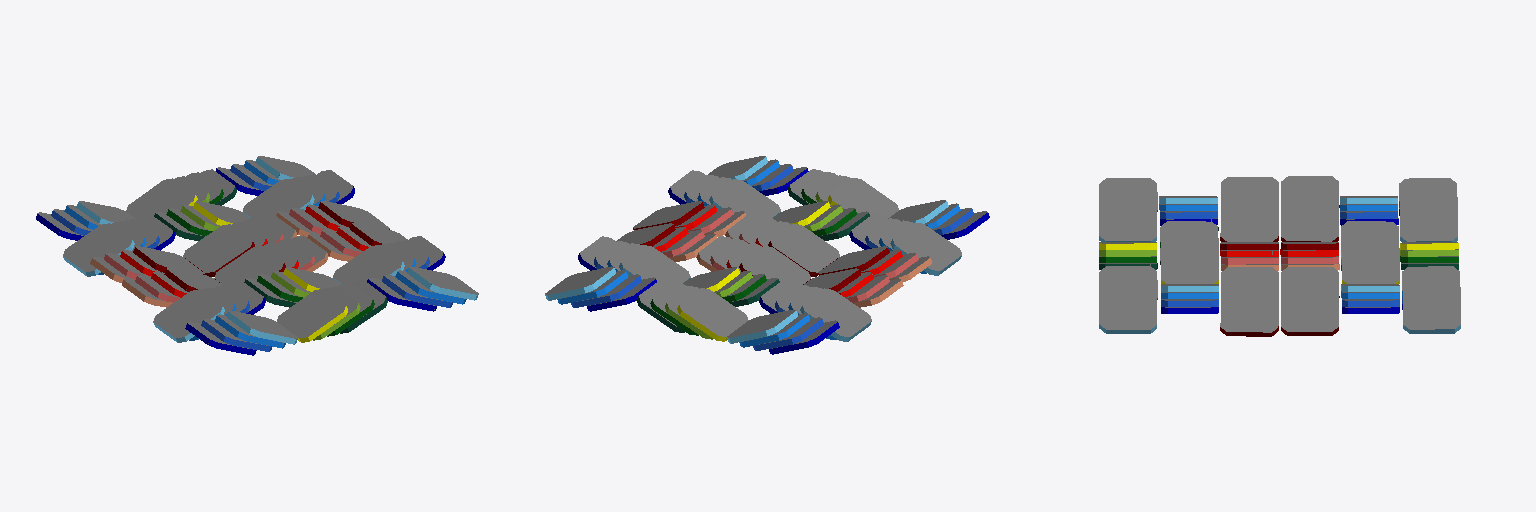
Rendered from brunnen.obj.
3 views of the same model, side by side, from view 1: azimuth 30°, elevation 25°; view 2: azimuth 150°, elevation 25°; view 3: azimuth 270°, elevation 25° (orthographic).
Visible parts, largest first — view 1: row1:pCube8 row1:polySurface1, row4:group row4:pCube5 row4:polySurface1 group, row2:group row2:pCube11 row2:polySurface3 row2:polySurface1, row5:group row5:pCube11 row5:polySurface3 row5:polySurface1 grou, row2:pCube3 row2:polySurface2 row2:polySurface1, row5:pCube3 row5:polySurface2 row5:polySurface1 group1, row6:pCube8 row6:polySurface1 group2, row3:group row3:pCube5 row3:polySurface1, row1:group row1:pCube11 row1:polySurface3 row1:polySurface1, row1:pCube3 row1:polySurface2 row1:polySurface1, row4:pCube1 row4:polySurface1 group, row4:group1 row4:pCube9 row4:polySurface1 group (+20 smaller); view 2: row6:pCube8 row6:polySurface1 group2, row3:group row3:pCube5 row3:polySurface1, row2:group row2:pCube11 row2:polySurface3 row2:polySurface1, row5:group row5:pCube11 row5:polySurface3 row5:polySurface1 grou, row1:pCube8 row1:polySurface1, row2:pCube3 row2:polySurface2 row2:polySurface1, row5:pCube3 row5:polySurface2 row5:polySurface1 group1, row4:group row4:pCube5 row4:polySurface1 group, row6:group row6:pCube11 row6:polySurface3 row6:polySurface1 grou, row6:pCube3 row6:polySurface2 row6:polySurface1 group2, row3:pCube1 row3:polySurface1, row3:group1 row3:pCube9 row3:polySurface1 (+20 smaller); view 3: row6:group row6:pCube11 row6:polySurface3 row6:polySurface1 grou, row1:group row1:pCube11 row1:polySurface3 row1:polySurface1, row3:group1 row3:pCube9 row3:polySurface1, row4:group1 row4:pCube9 row4:polySurface1 group, row4:pCube1 row4:polySurface1 group, row6:pCube3 row6:polySurface2 row6:polySurface1 group2, row1:pCube3 row1:polySurface2 row1:polySurface1, row3:pCube1 row3:polySurface1, row5:pCube8 row5:polySurface1 group1, row2:pCube8 row2:polySurface1.
Part boxes in pixels (x1,y1,x2,y2): row1:pCube8 row1:polySurface1: (277,289,347,342); row4:group row4:pCube5 row4:polySurface1 group: (183,224,254,276); row2:group row2:pCube11 row2:polySurface3 row2:polySurface1: (153,289,224,342); row5:group row5:pCube11 row5:polySurface3 row5:polySurface1 grou: (63,223,134,276); row2:pCube3 row2:polySurface2 row2:polySurface1: (333,245,404,283); row5:pCube3 row5:polySurface2 row5:polySurface1 group1: (243,179,314,217); row6:pCube8 row6:polySurface1 group2: (126,178,197,218); row3:group row3:pCube5 row3:polySurface1: (214,246,285,284); row1:group row1:pCube11 row1:polySurface3 row1:polySurface1: (407,266,478,300); row1:pCube3 row1:polySurface2 row1:polySurface1: (227,311,297,344); row4:pCube1 row4:polySurface1 group: (133,246,204,274); row4:group1 row4:pCube9 row4:polySurface1 group: (318,201,389,229); row6:pCube8 row6:polySurface1 group2: (677,288,748,341); row3:group row3:pCube5 row3:polySurface1: (768,224,839,276); row2:group row2:pCube11 row2:polySurface3 row2:polySurface1: (890,222,961,275); row5:group row5:pCube11 row5:polySurface3 row5:polySurface1 grou: (800,288,871,341); row1:pCube8 row1:polySurface1: (828,178,898,218); row2:pCube3 row2:polySurface2 row2:polySurface1: (709,179,780,217); row5:pCube3 row5:polySurface2 row5:polySurface1 group1: (619,245,690,283); row4:group row4:pCube5 row4:polySurface1 group: (739,246,810,284); row6:group row6:pCube11 row6:polySurface3 row6:polySurface1 grou: (545,266,615,300); row6:pCube3 row6:polySurface2 row6:polySurface1 group2: (727,309,797,343); row3:pCube1 row3:polySurface1: (818,246,889,275); row3:group1 row3:pCube9 row3:polySurface1: (633,201,704,229); row6:group row6:pCube11 row6:polySurface3 row6:polySurface1 grou: (1403,285,1460,333); row1:group row1:pCube11 row1:polySurface3 row1:polySurface1: (1099,285,1156,333); row3:group1 row3:pCube9 row3:polySurface1: (1220,288,1278,336); row4:group1 row4:pCube9 row4:polySurface1 group: (1281,287,1339,335); row4:pCube1 row4:polySurface1 group: (1281,197,1339,241); row6:pCube3 row6:polySurface2 row6:polySurface1 group2: (1400,197,1457,241); row1:pCube3 row1:polySurface2 row1:polySurface1: (1099,197,1156,241); row3:pCube1 row3:polySurface1: (1220,197,1278,241); row5:pCube8 row5:polySurface1 group1: (1341,240,1399,283); row2:pCube8 row2:polySurface1: (1161,240,1218,283).
Size of the model in its own units: 22.16 by 2.12 by 24.92.